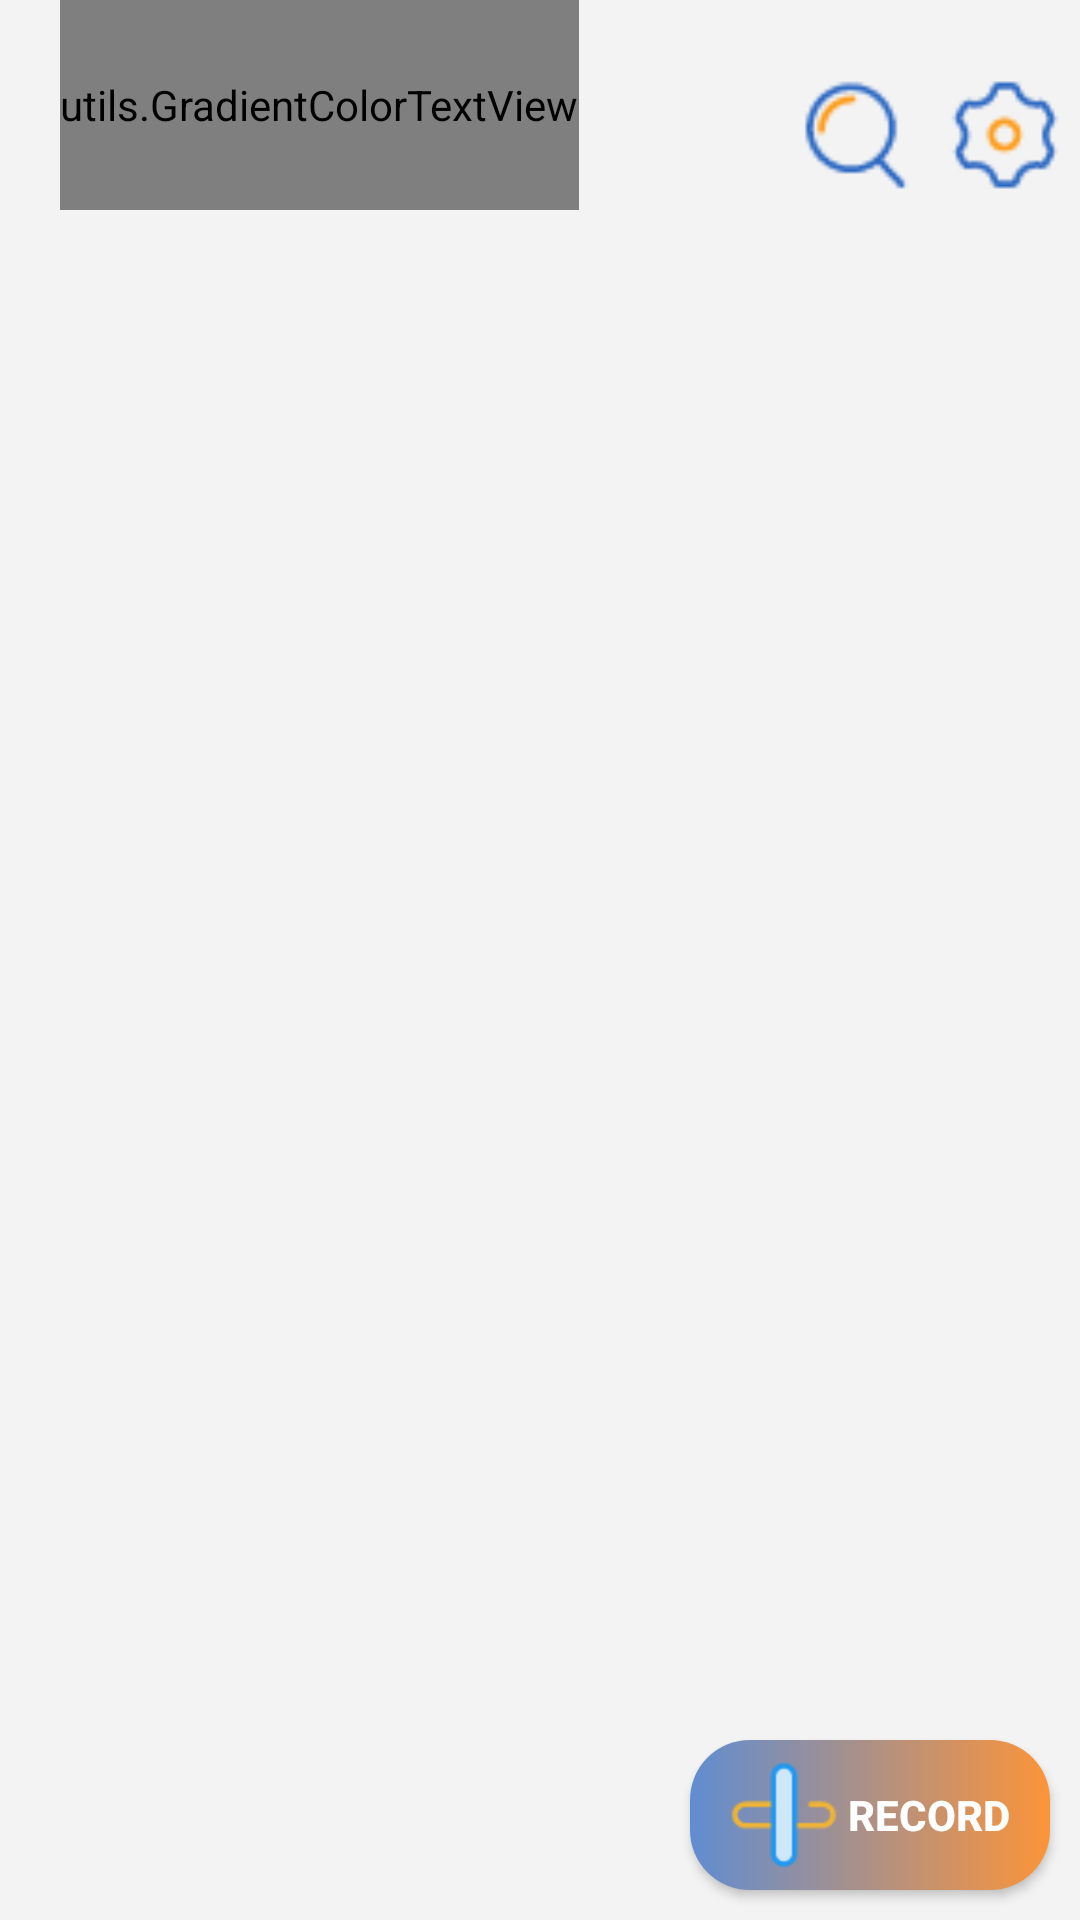

Named icons in this screenshot (1080x1920) and their bounding boxes, bbox=[x1, y1, x2, y2]:
search: bbox=[805, 81, 906, 189]
setting activate: bbox=[953, 81, 1057, 189]
